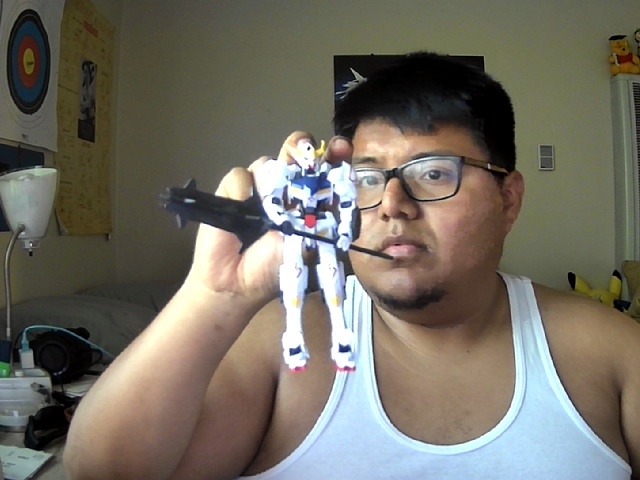Barbatos: (159, 139, 394, 373)
